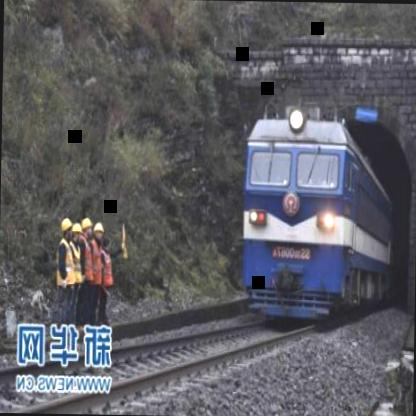helmet: (58, 214, 72, 242), (80, 213, 94, 240), (91, 219, 106, 243), (70, 220, 84, 245)
